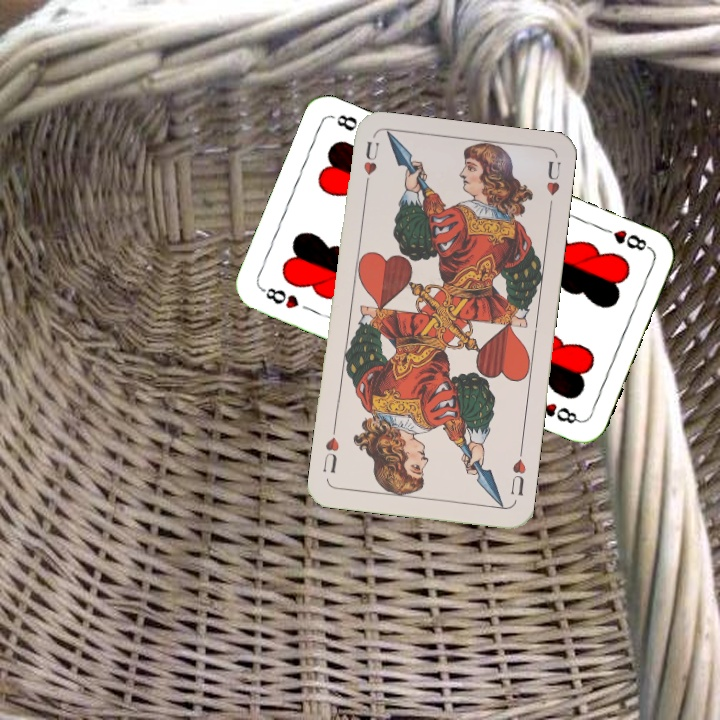H8: (596, 223, 653, 253), (257, 283, 302, 312)
HU: (359, 137, 382, 194), (506, 445, 529, 498)
